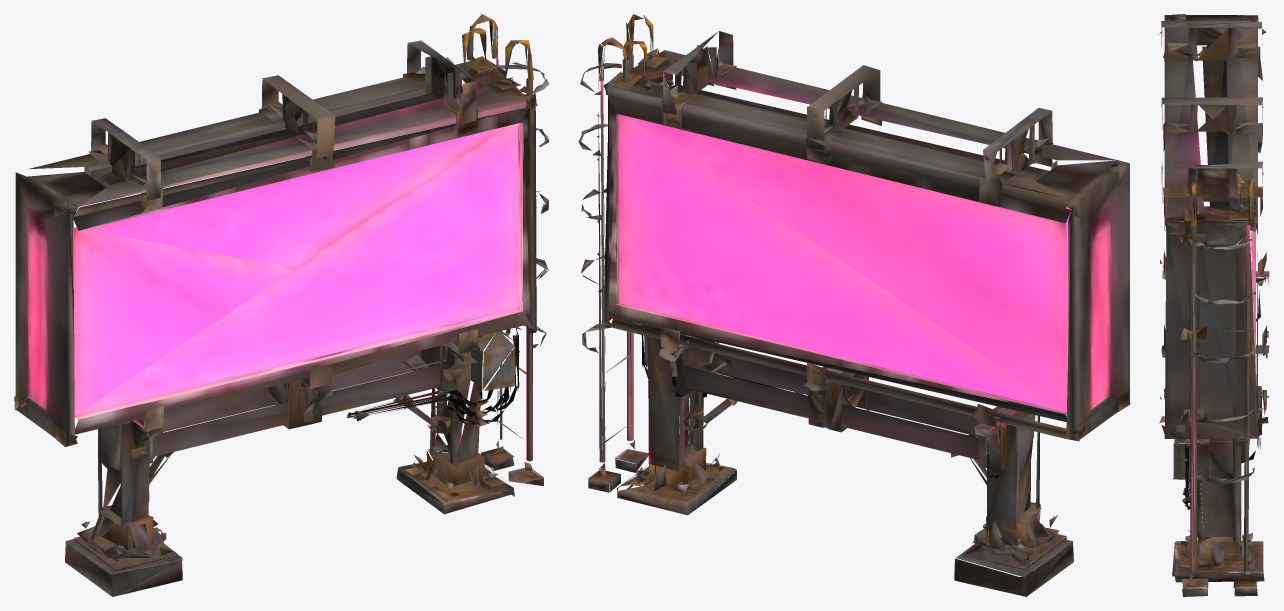
Rendered from neon-far.glb.
3 renders of one model, left to right at view 1: azimuth 30°, elevation 25°; view 2: azimuth 150°, elevation 25°; view 3: azimuth 270°, elevation 25°, orthographic. The views are drawn at different scales.
Parts seen in each view (by area): view 1: neon; view 2: neon; view 3: neon.
Part boxes in pixels (box(x1,y1,x2,y2)): neon: box(14, 14, 549, 596); neon: box(578, 14, 1130, 596); neon: box(1159, 14, 1269, 596).
Size of the model in its own units: 7 by 5.9 by 1.45.
1 material, 1 textured.
